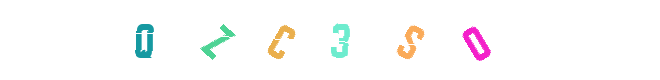3: (290, 0, 370, 80)
C: (278, 0, 358, 80)
O: (436, 0, 516, 80)
Q: (104, 0, 184, 80)
S: (307, 0, 387, 80)
Z: (172, 0, 252, 80)
